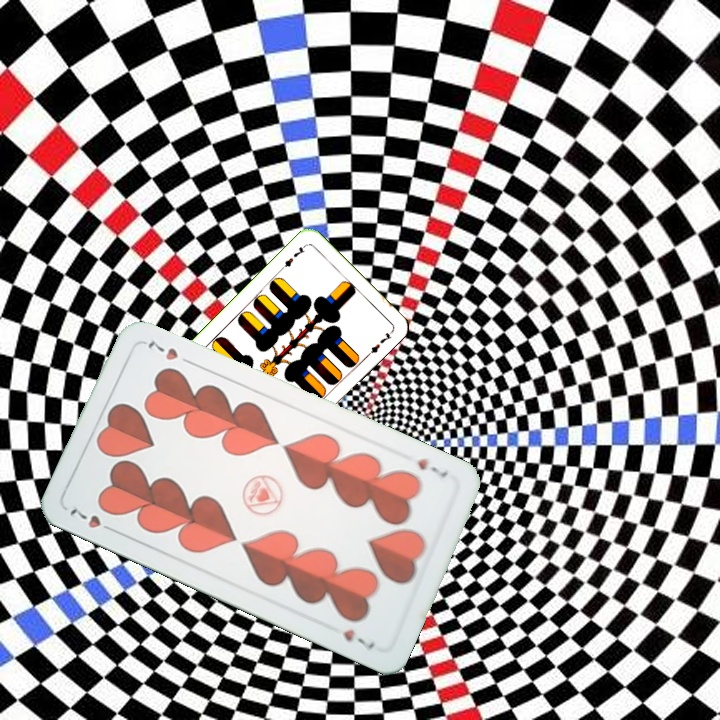E7: (277, 241, 309, 273)
H7: (65, 504, 119, 535), (413, 453, 451, 482)
